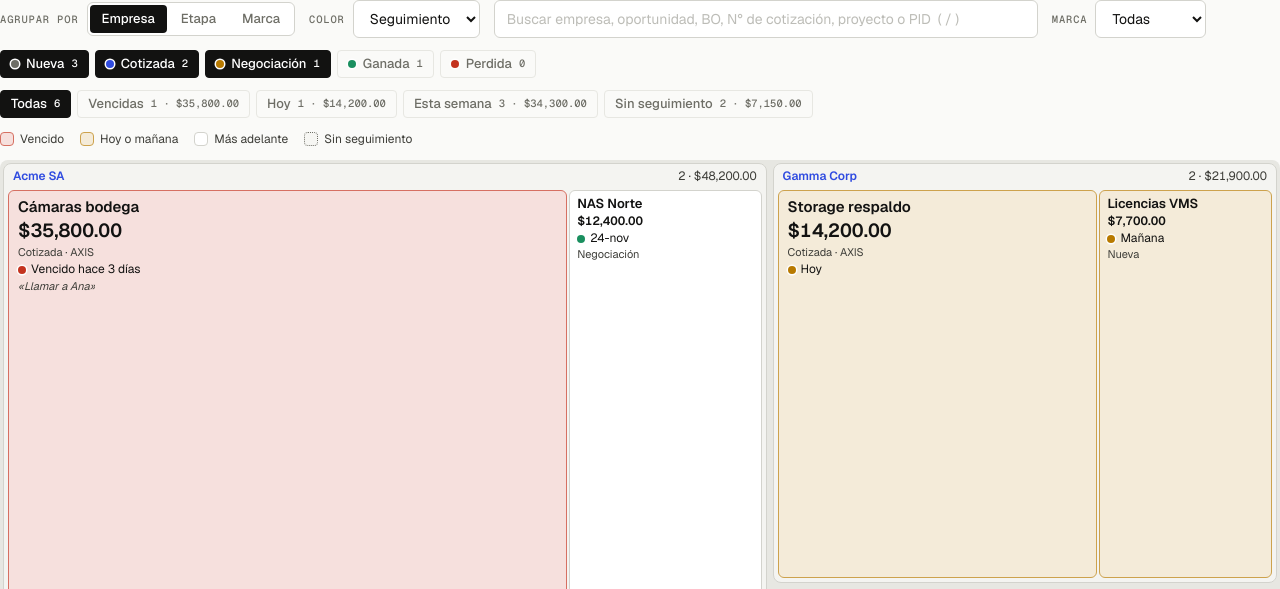
Test: MapaTab › los chips se calculan con búsqueda y marca aplicadas, antes del filtro de seguimiento
Replace the text in the search field named "Buscar en el mapa" with "gamma": (766, 19) [494, 0, 1038, 38]
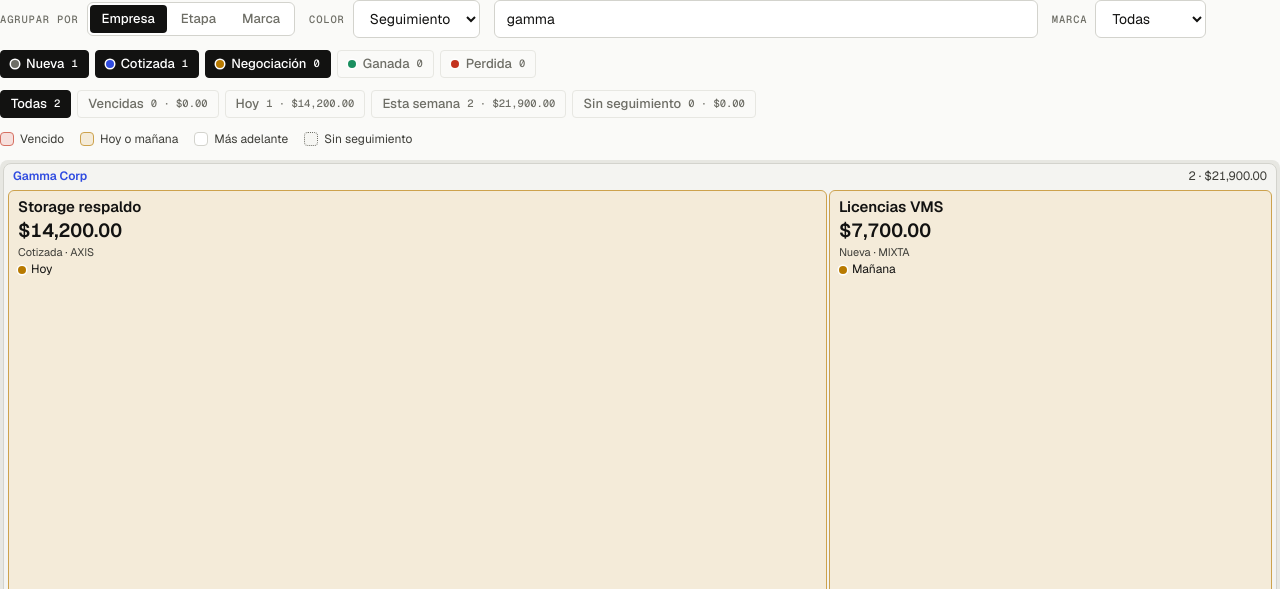
Expected: the button "Todas 2" is shown, [0, 90, 71, 118]
Expected: the button "Vencidas 0 · $0.00" is shown, [77, 90, 219, 118]
Expected: the button "Esta semana 2 · $21,900.00" is shown, [371, 90, 566, 118]
